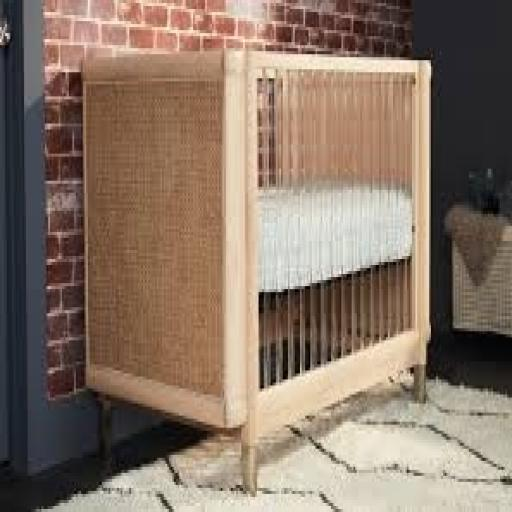crib: (83, 45, 431, 494)
